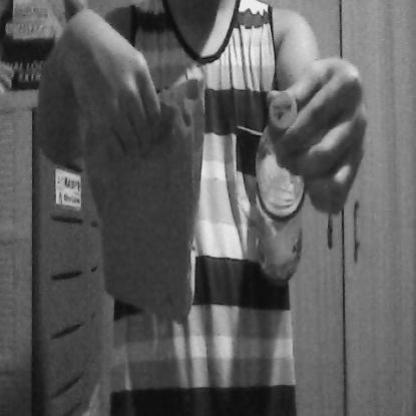Plastic Bottle: (250, 73, 309, 296)
